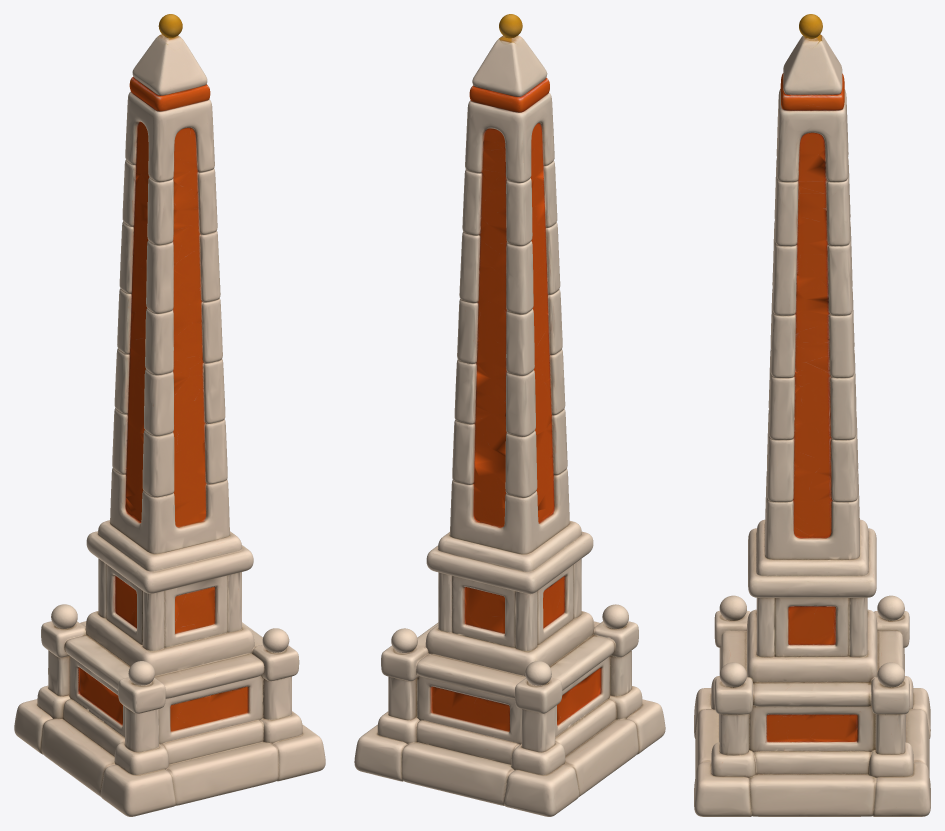
The model's file is Meshy_AI_booston_07_monument_o_1014013002_image-to-3d-texture.glb.
The picture shows the model from 3 angles, left to right: view 1: azimuth 30°, elevation 25°; view 2: azimuth 150°, elevation 25°; view 3: azimuth 270°, elevation 25°; orthographic projection. The views are drawn at different scales.
Visible parts, largest first — view 1: Mesh_0.003; view 2: Mesh_0.003; view 3: Mesh_0.003.
Part boxes in pixels (x1=…): Mesh_0.003: x1=14, y1=14, x2=325, y2=816; Mesh_0.003: x1=354, y1=14, x2=665, y2=816; Mesh_0.003: x1=694, y1=14, x2=930, y2=816.
Size of the model in its own units: 5.69 by 20 by 5.69.
1 material, 1 textured.
